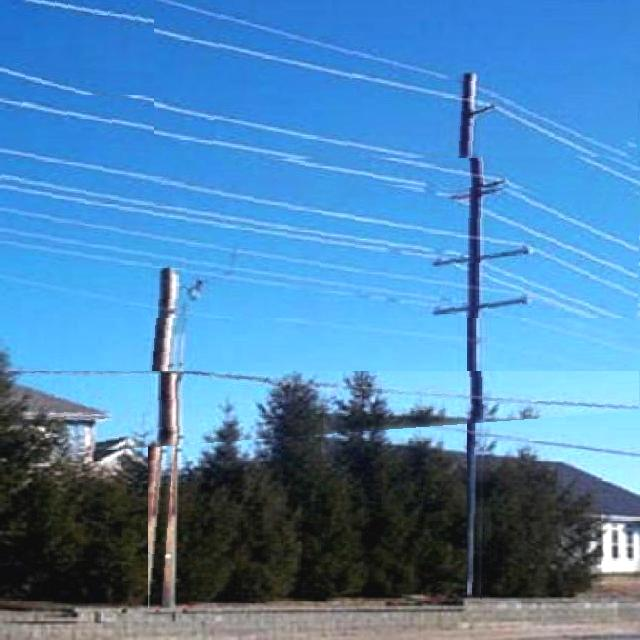crossarm: (433, 281, 531, 305), (434, 229, 530, 253)
pole: (148, 264, 186, 612), (467, 76, 489, 601)
wire: (0, 63, 590, 238), (0, 96, 635, 249), (21, 0, 632, 145), (0, 147, 640, 280), (1, 182, 620, 318), (3, 173, 613, 307), (154, 1, 630, 158), (1, 371, 639, 421)
